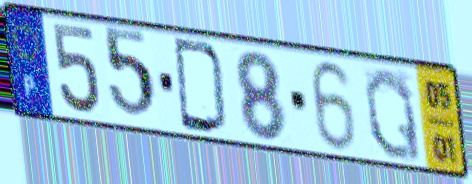5: (100, 24, 159, 128), (49, 21, 103, 118)
6: (310, 57, 359, 154)
8: (234, 48, 291, 144)
D: (171, 34, 231, 138)
Q: (361, 65, 425, 165)
